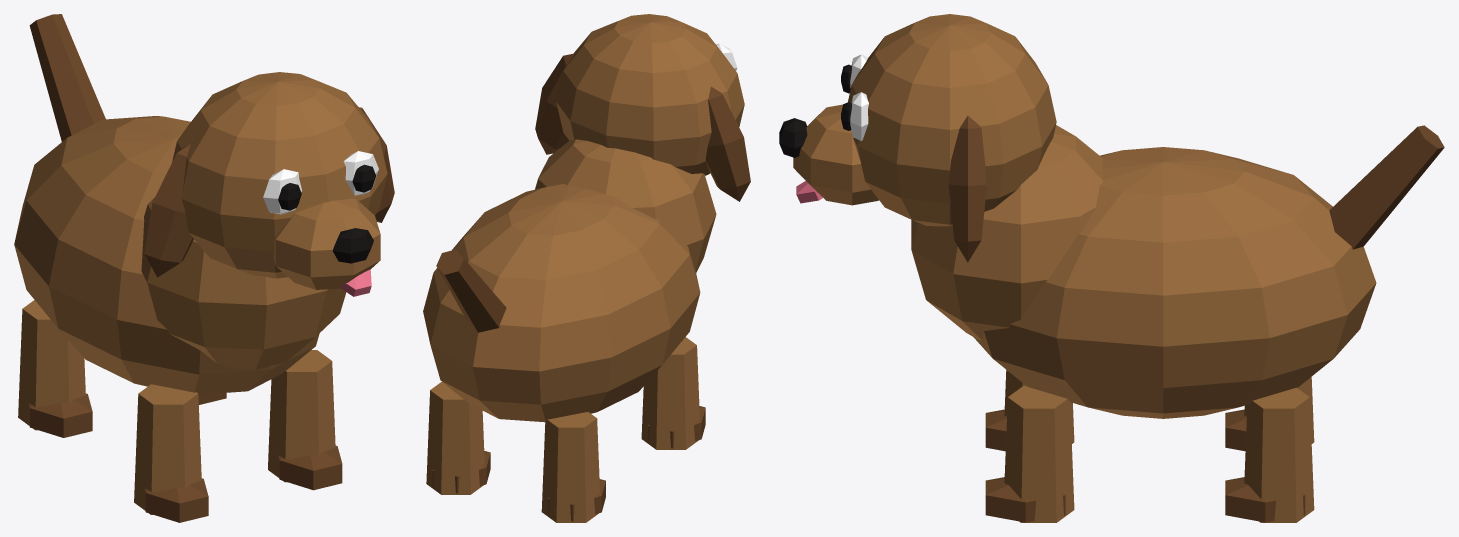
File: dog_1.glb
The picture shows the model from 3 angles, left to right: view 1: azimuth 30°, elevation 25°; view 2: azimuth 150°, elevation 25°; view 3: azimuth 270°, elevation 25°; orthographic projection. The views are drawn at different scales.
Parts seen in each view (by area): view 1: body, head, legs, tail, ears, head_dog_black, head_dog_eye, head_dog_tongue; view 2: body, head, legs, ears, tail; view 3: body, head, legs, tail, ears, head_dog_black, head_dog_eye.
Part boxes in pixels (x1,y1,x2,y2): body: (14, 116, 346, 394); head: (172, 72, 387, 289); legs: (18, 300, 342, 522); tail: (29, 14, 105, 141); ears: (144, 107, 394, 277); head_dog_black: (278, 164, 375, 263); head_dog_eye: (263, 151, 378, 214); head_dog_tongue: (340, 270, 371, 296); body: (423, 139, 716, 422); head: (556, 14, 744, 175); legs: (426, 337, 705, 522); ears: (535, 53, 750, 201); tail: (436, 249, 506, 332); body: (911, 125, 1376, 418); head: (793, 14, 1056, 226); legs: (985, 370, 1314, 522); tail: (1329, 125, 1444, 249); ears: (948, 116, 986, 262); head_dog_black: (779, 64, 851, 157); head_dog_eye: (850, 54, 868, 140).
Size of the model in its own units: 0.34 by 0.57 by 0.7492.
